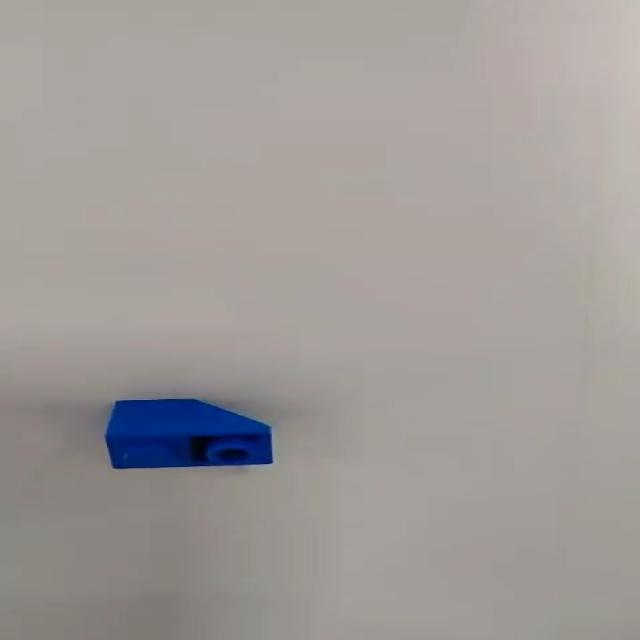X1x2x1: (103, 397, 283, 473)
